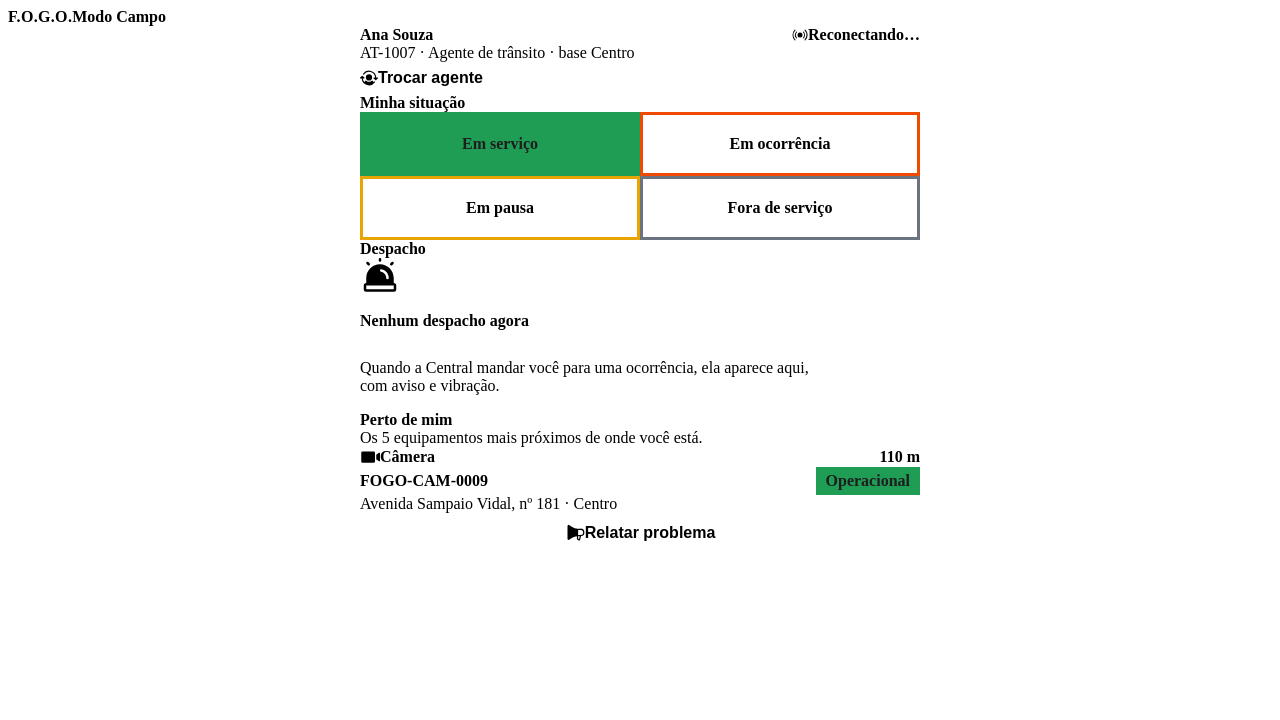
Scenario: Modo Campo › lista os equipamentos perto e relata um problema com observação
This screenshot has width=1280, height=720.
Expected: the text "FOGO-CAM-0009" is shown, [360, 472, 488, 490]
Expected: the text "110 m" is shown, [880, 448, 920, 466]
Click the button with aria-label "Relatar problema em FOGO-CAM-0009" at (640, 533), box [360, 513, 920, 553]
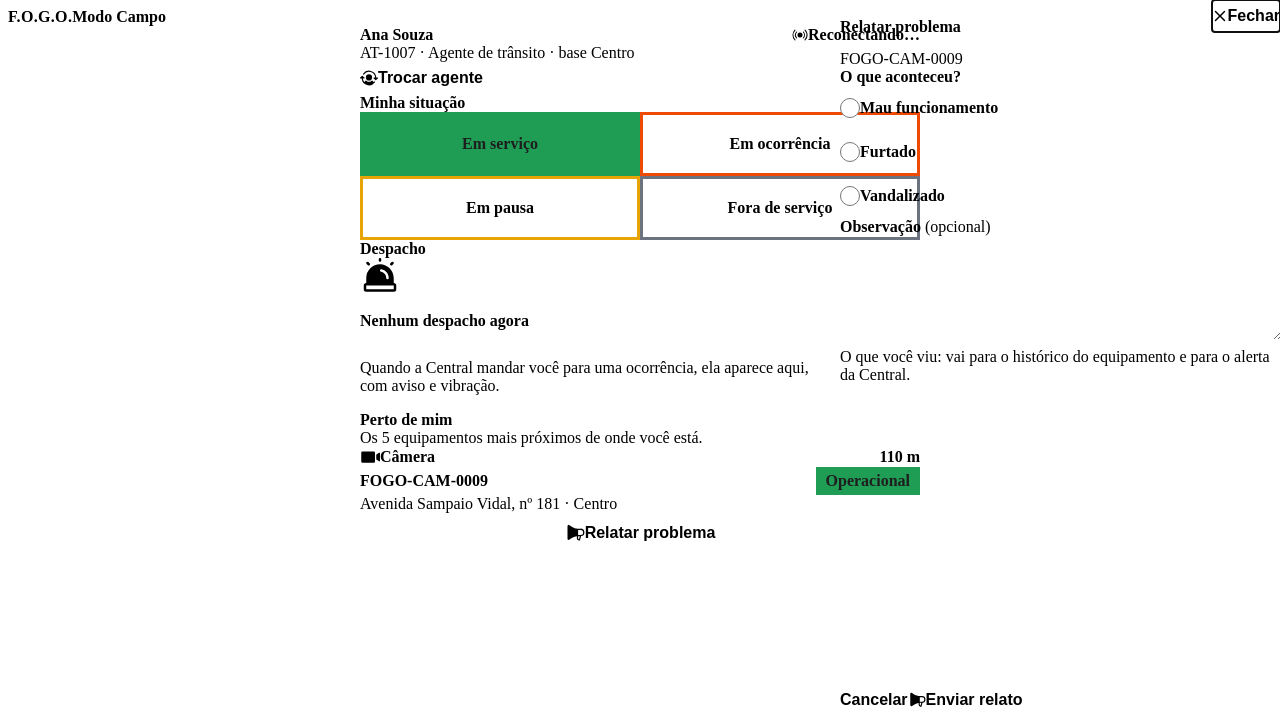
Click the radio button labelled "Furtado" at (850, 152), box [840, 142, 860, 162]
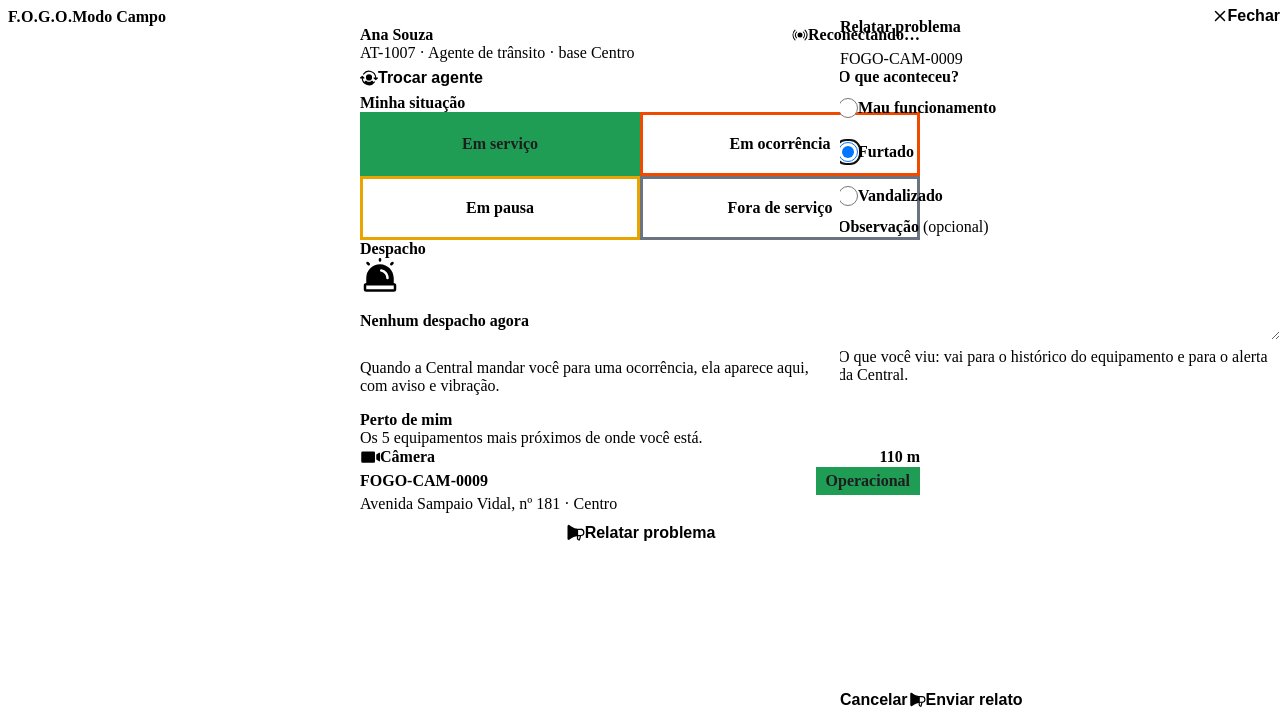
Type "Só restou o suporte no poste" into the text box labelled "Observação (opcional)" at (1059, 292), box [838, 242, 1279, 342]
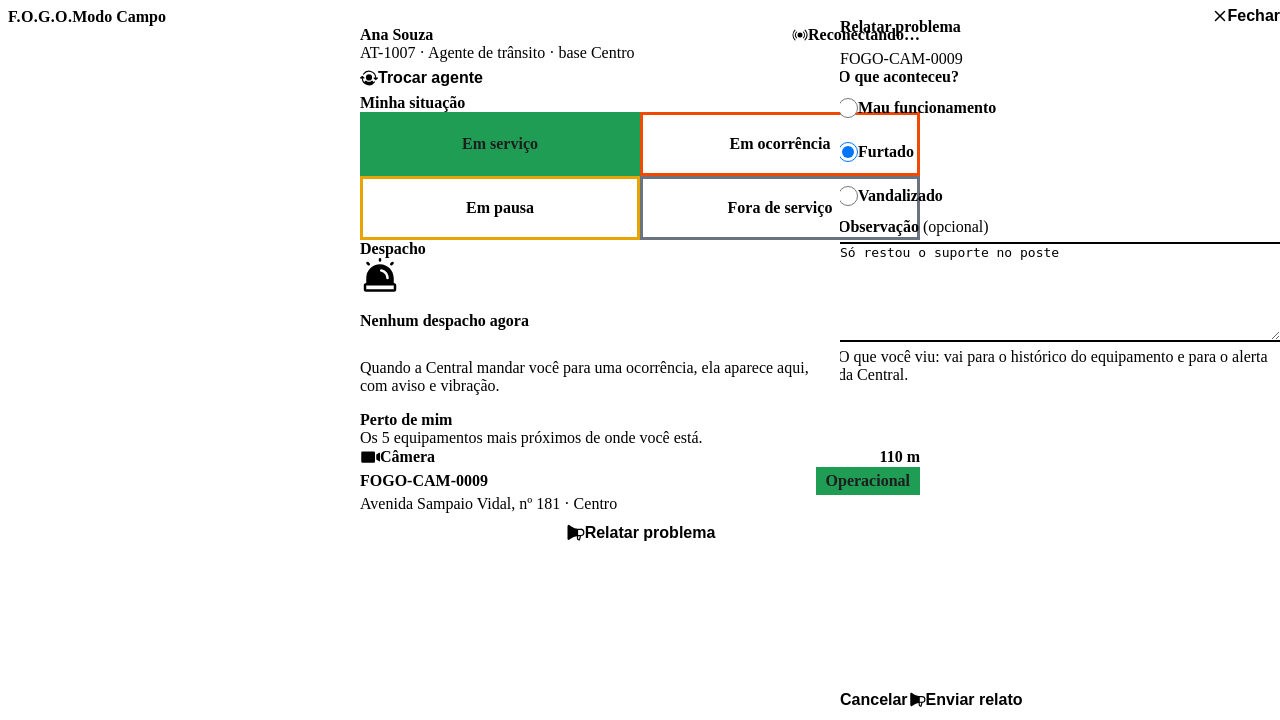
Click the button "Enviar relato" at (965, 700), box [908, 680, 1022, 719]
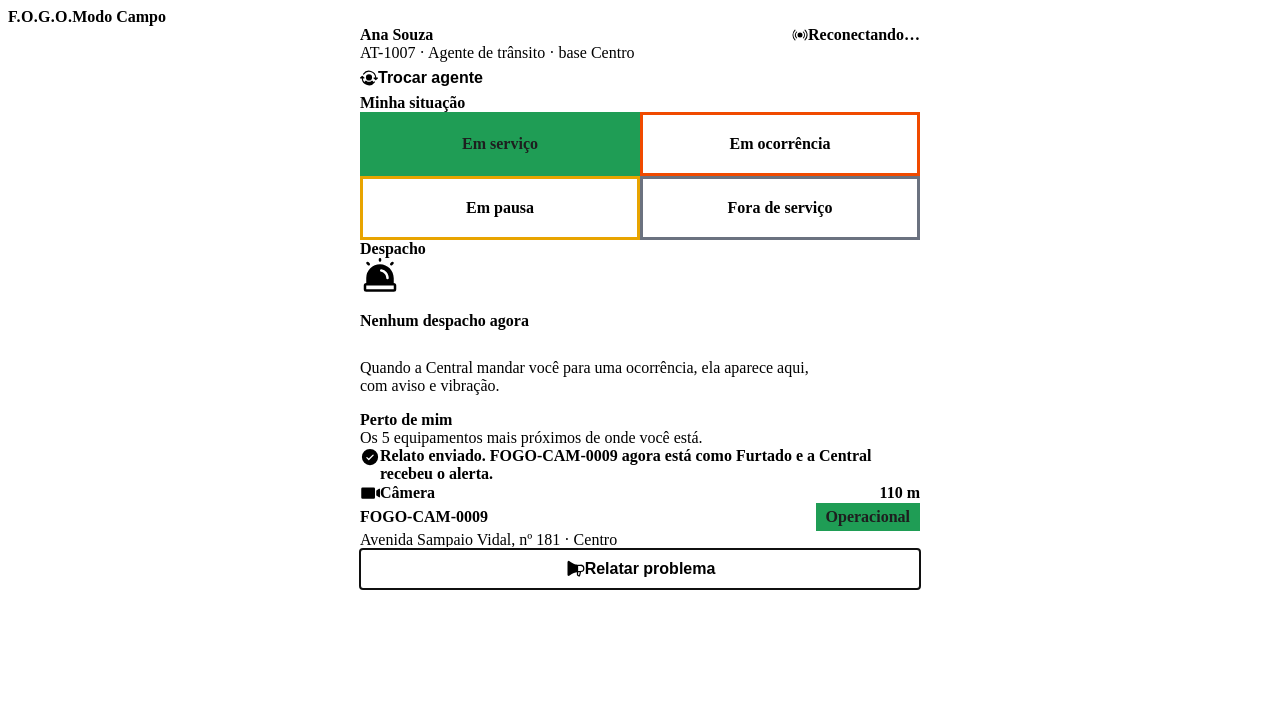
Expected: the text "FOGO-CAM-0009 agora está como Furtado" is shown, [380, 447, 872, 482]
